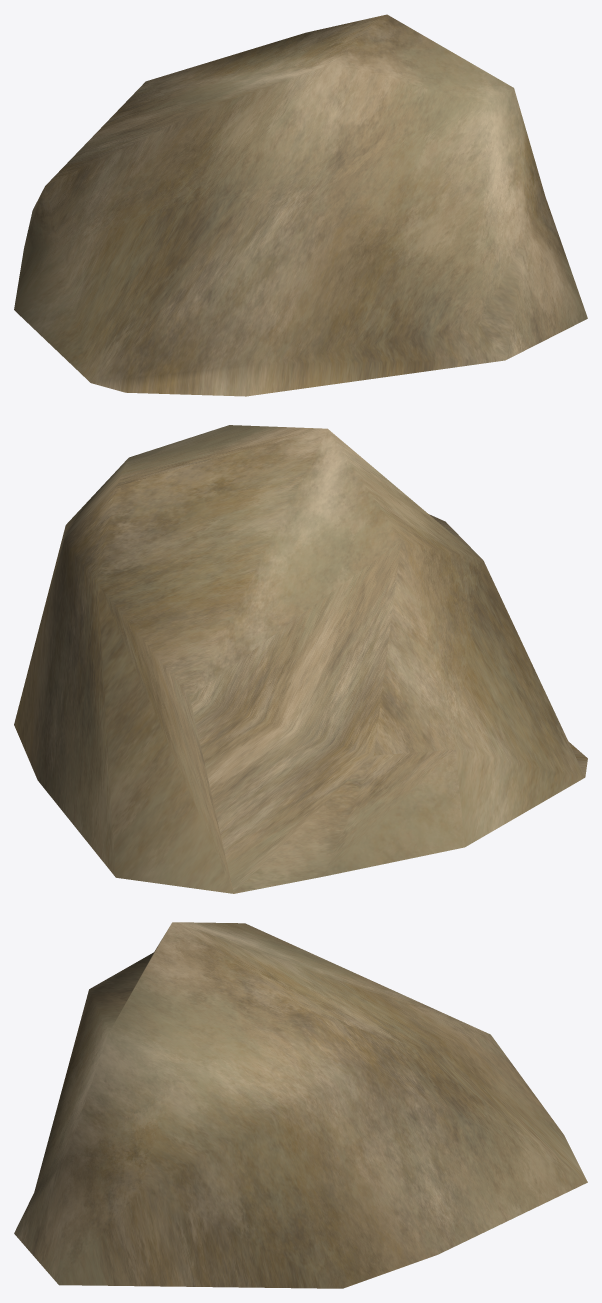
The model's file is rock.fbx.
3 views of the same model, one above another, from view 1: azimuth 30°, elevation 25°; view 2: azimuth 150°, elevation 25°; view 3: azimuth 270°, elevation 25° (orthographic). The views are drawn at different scales.
Visible parts, largest first — view 1: pPlatonic1; view 2: pPlatonic1; view 3: pPlatonic1.
Part boxes in pixels (left/top/right/bottom): pPlatonic1: left=14, top=14, right=587, bottom=396; pPlatonic1: left=14, top=425, right=587, bottom=893; pPlatonic1: left=14, top=922, right=587, bottom=1288.
Size of the model in its own units: 2.14 by 1.2 by 2.36.
1 material, 1 textured.
